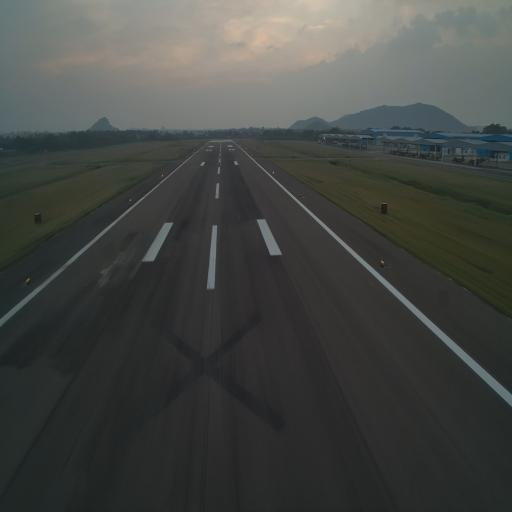off: (299, 192, 302, 200)
on: (25, 276, 31, 286), (379, 258, 384, 268), (129, 198, 132, 203)
